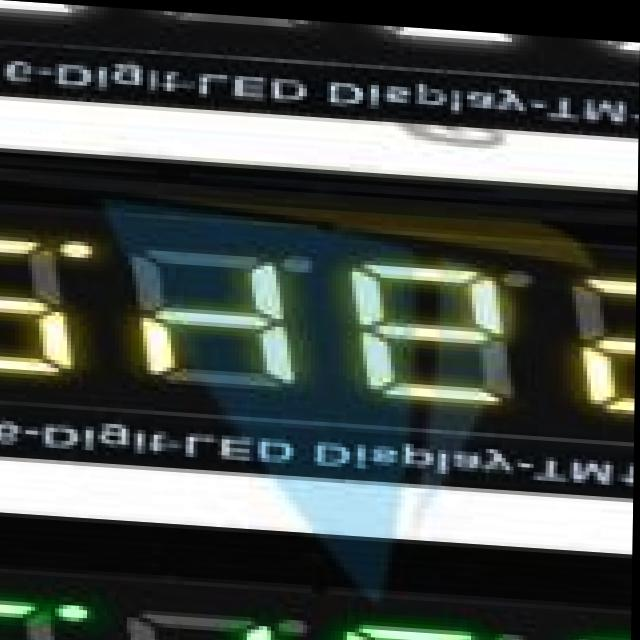display: (0, 216, 637, 430), (0, 0, 640, 98), (0, 580, 633, 640)
